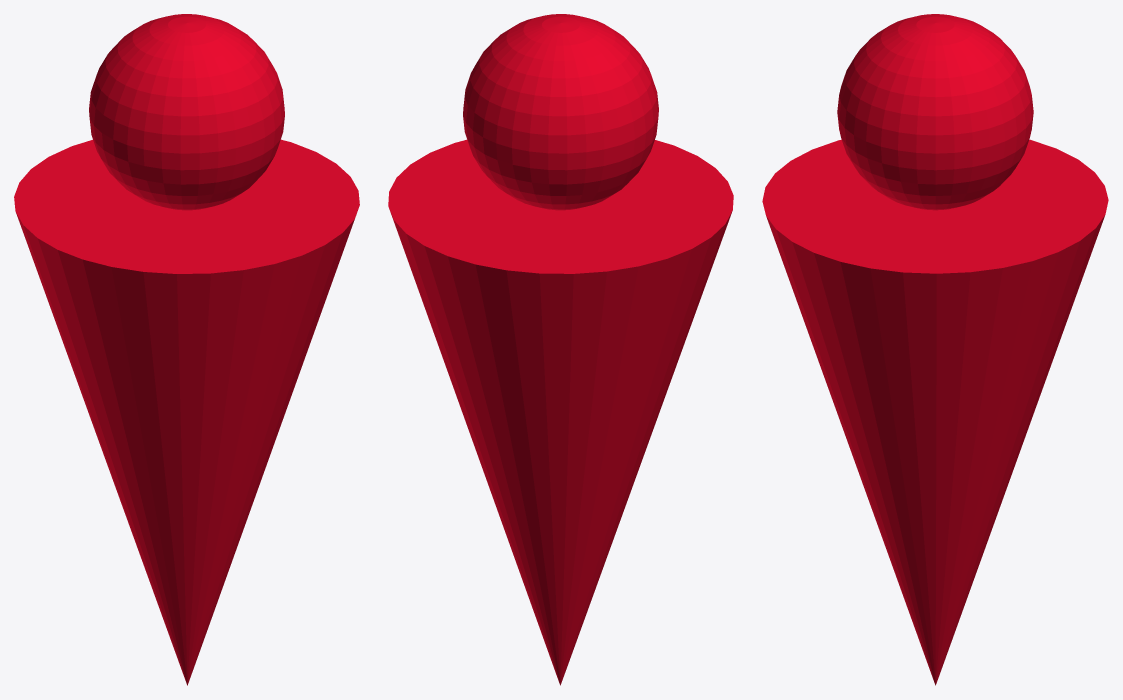
The model's file is player_red.gltf.
3 views of the same model, side by side, from view 1: azimuth 30°, elevation 25°; view 2: azimuth 150°, elevation 25°; view 3: azimuth 270°, elevation 25° (orthographic).
Parts seen in each view (by area): view 1: Sphere; view 2: Sphere; view 3: Sphere.
Part boxes in pixels (x1,y1,x2,y2): Sphere: (14,14,359,685); Sphere: (388,14,733,685); Sphere: (762,14,1108,685).
Size of the model in its own units: 1.1 by 2.32 by 1.1.
